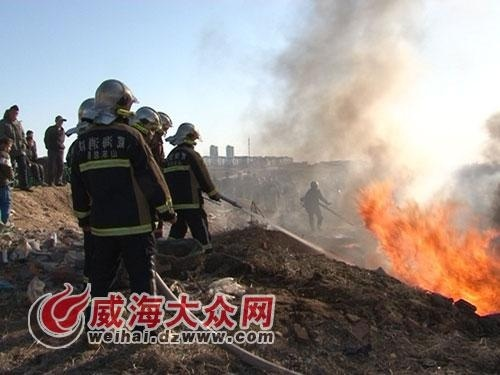fire: (359, 174, 500, 332)
